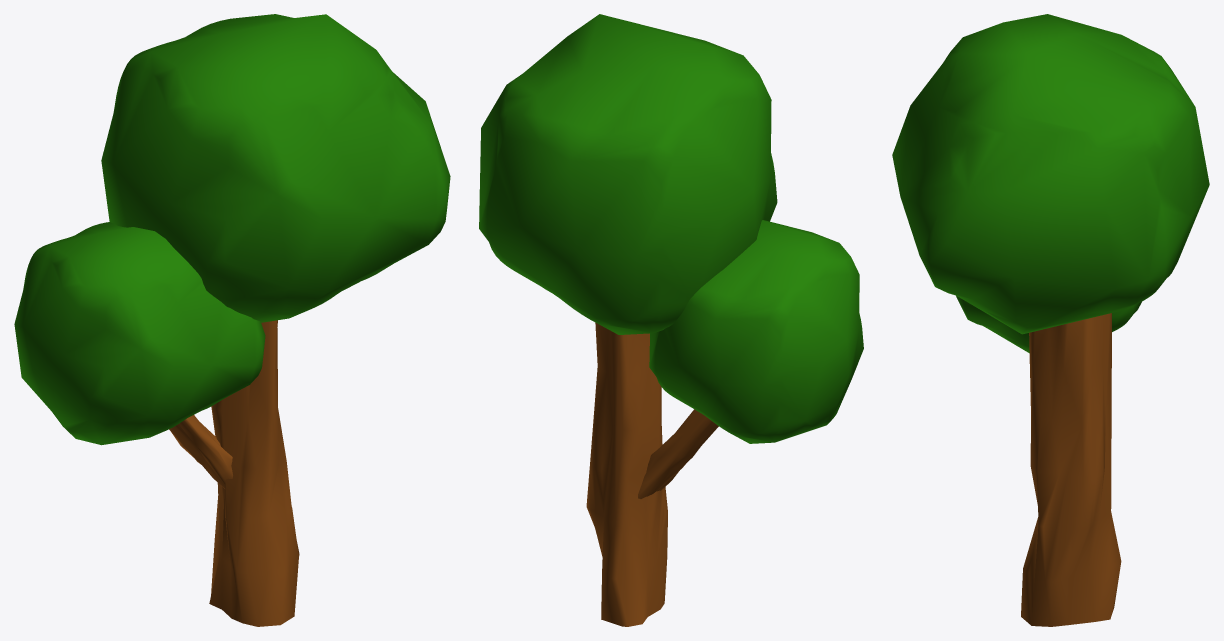
File: Tree3.fbx
3 views of the same model, side by side, from view 1: azimuth 30°, elevation 25°; view 2: azimuth 150°, elevation 25°; view 3: azimuth 270°, elevation 25° (orthographic). The views are drawn at different scales.
Visible parts, largest first — view 1: Object001; view 2: Object001; view 3: Object001.
Boxes of the visible parts, bbox=[...] form: Object001: bbox=[14, 14, 450, 626]; Object001: bbox=[479, 14, 863, 626]; Object001: bbox=[892, 14, 1209, 626].
Size of the model in its own units: 77.78 by 118 by 57.94.
